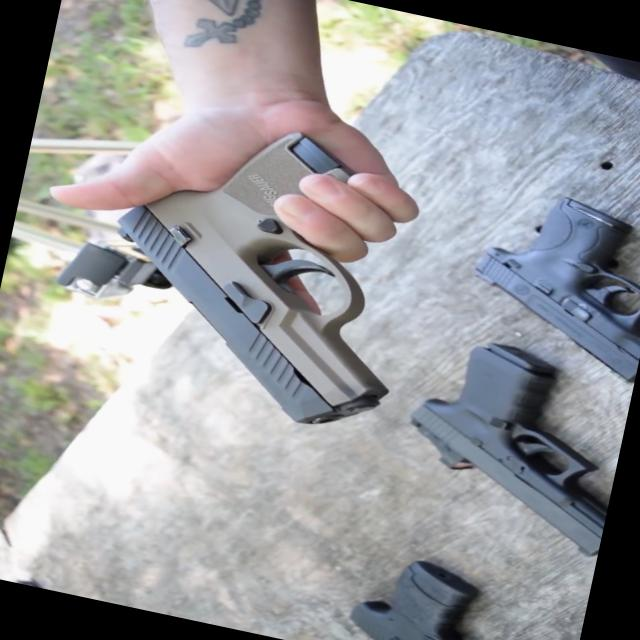handgun: (77, 70, 479, 471), (367, 312, 638, 558), (414, 170, 639, 401), (324, 531, 538, 639)
